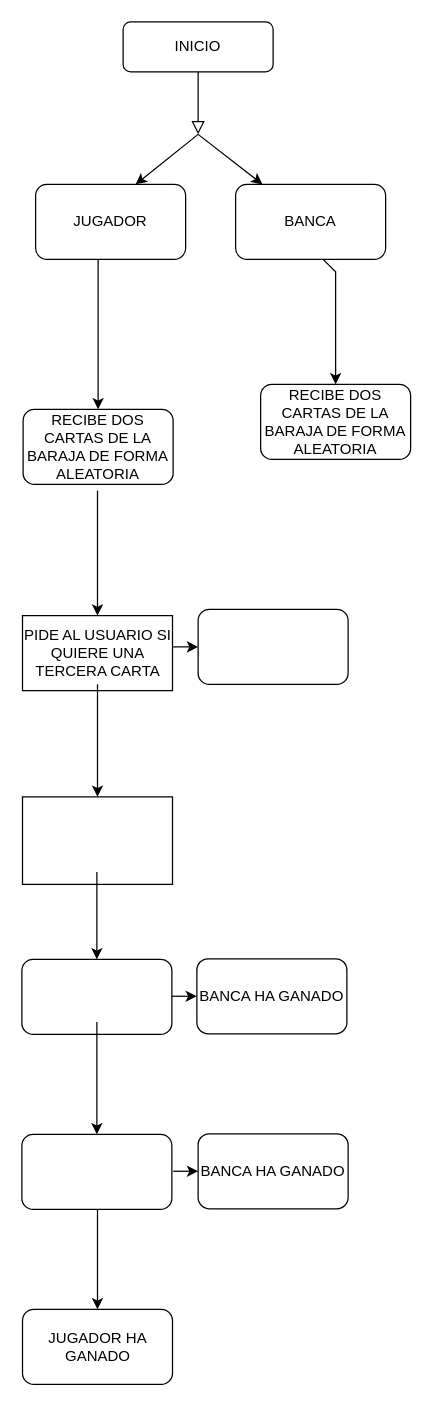
Some shapes in this 433 by 1406 pixel diagram are drawn without their labels. Here are the shapes that lost their labels. From the top down, the centre of each, then its label:
At point (272, 646): "EL JUGADOR SE QUEDA CON EL VALOR DE SUS DOS CARTAS".
At point (96, 840): "SE LE SUMA EL VALOR DE LA TERCERA CARTA A LAS DOS ANTERIORES".
At point (96, 996): "VALOR CARTAS BANCA >21".
At point (96, 1171): "VALOR CARTAS JUGADOR>VALOR CARTAS BANCA".
